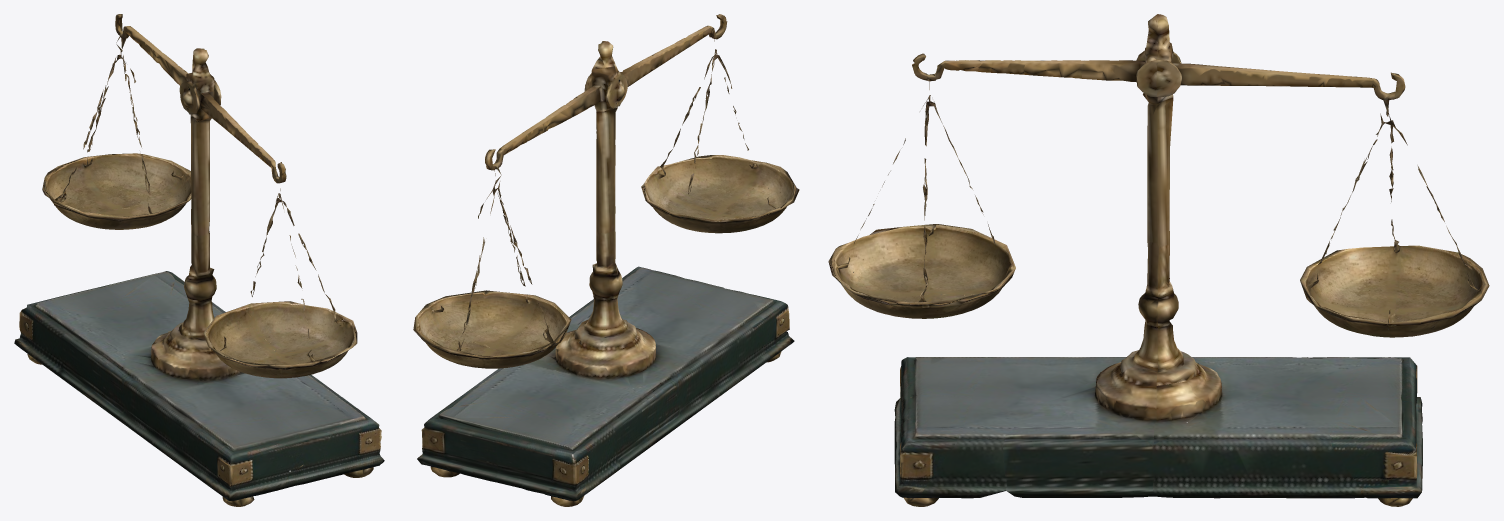
The model's file is balance-desktop.glb.
The picture shows the model from 3 angles, left to right: view 1: azimuth 30°, elevation 25°; view 2: azimuth 150°, elevation 25°; view 3: azimuth 270°, elevation 25°; orthographic projection. The views are drawn at different scales.
Visible parts, largest first — view 1: tripo_node_82a17241-a3a7-4bf5-a1d9-b632d9dff5a1; view 2: tripo_node_82a17241-a3a7-4bf5-a1d9-b632d9dff5a1; view 3: tripo_node_82a17241-a3a7-4bf5-a1d9-b632d9dff5a1.
Boxes of the visible parts, x1,y1,x2,y2 form: tripo_node_82a17241-a3a7-4bf5-a1d9-b632d9dff5a1: (14, 14, 384, 506); tripo_node_82a17241-a3a7-4bf5-a1d9-b632d9dff5a1: (413, 14, 799, 506); tripo_node_82a17241-a3a7-4bf5-a1d9-b632d9dff5a1: (828, 14, 1489, 506).
Bounding box in the file's own units: 0.3563 × 0.7559 × 0.9986.
1 material, 1 textured.
